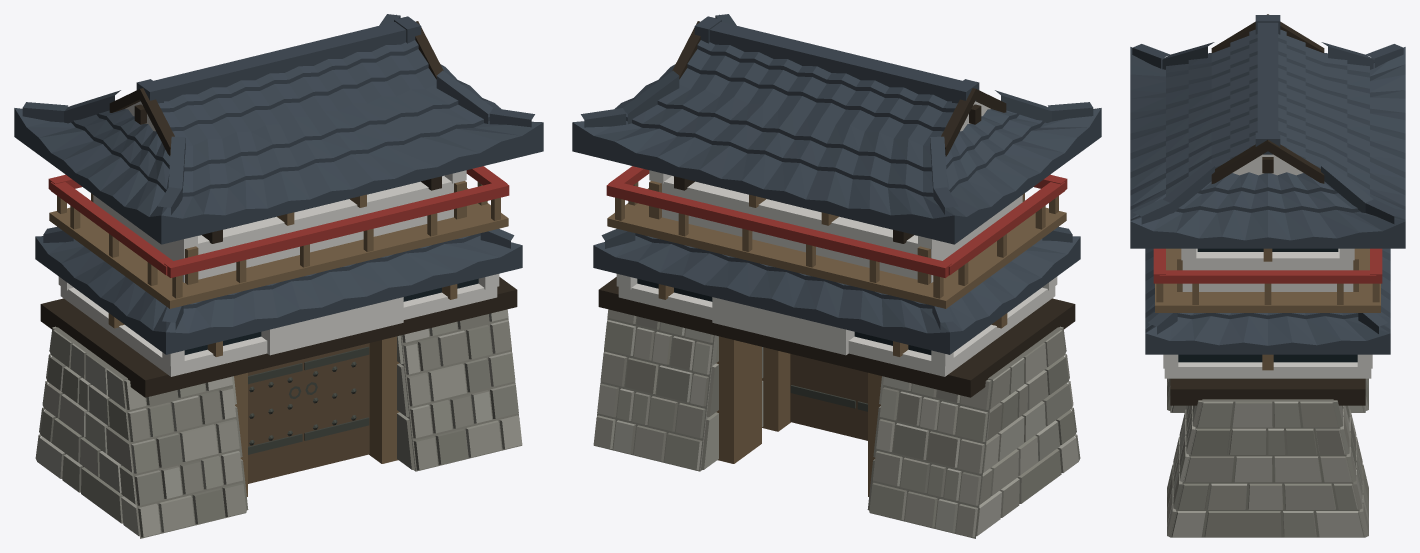
The model's file is castle.glb.
The picture shows the model from 3 angles, left to right: view 1: azimuth 30°, elevation 25°; view 2: azimuth 150°, elevation 25°; view 3: azimuth 270°, elevation 25°; orthographic projection. The views are drawn at different scales.
Visible parts, largest first — view 1: castle-gatehouse, door-r, door-l; view 2: castle-gatehouse, door-r, door-l; view 3: castle-gatehouse.
Boxes of the visible parts, x1=… form: castle-gatehouse: x1=14, y1=14, x2=543, y2=538; door-r: x1=303, y1=343, x2=369, y2=470; door-l: x1=248, y1=359, x2=302, y2=483; castle-gatehouse: x1=572, y1=14, x2=1101, y2=538; door-r: x1=790, y1=354, x2=857, y2=438; door-l: x1=857, y1=370, x2=867, y2=440; castle-gatehouse: x1=1130, y1=14, x2=1405, y2=537.
Bounding box in the file's own units: 6 × 6 × 4.
